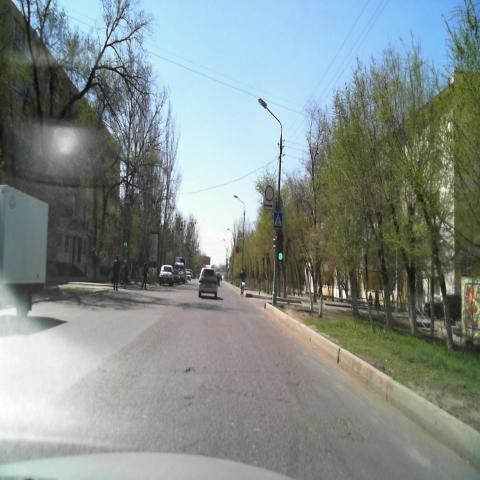3_2: (264, 186, 274, 201)
